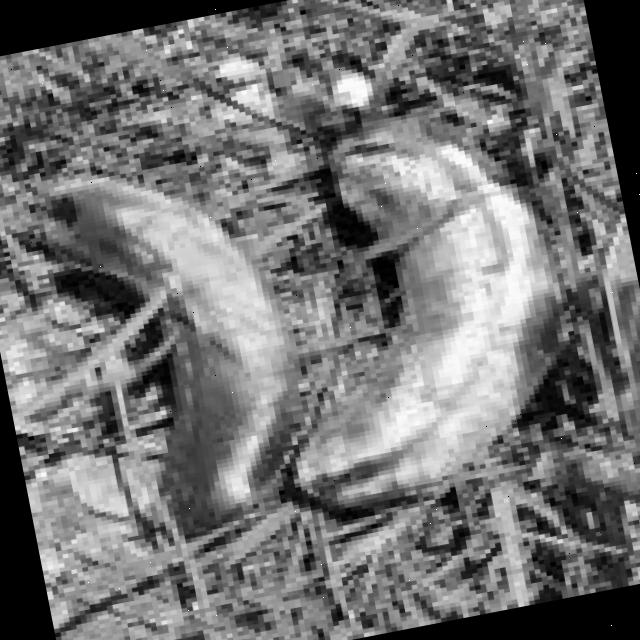Bad_Banana-0 day: (48, 176, 296, 531)
